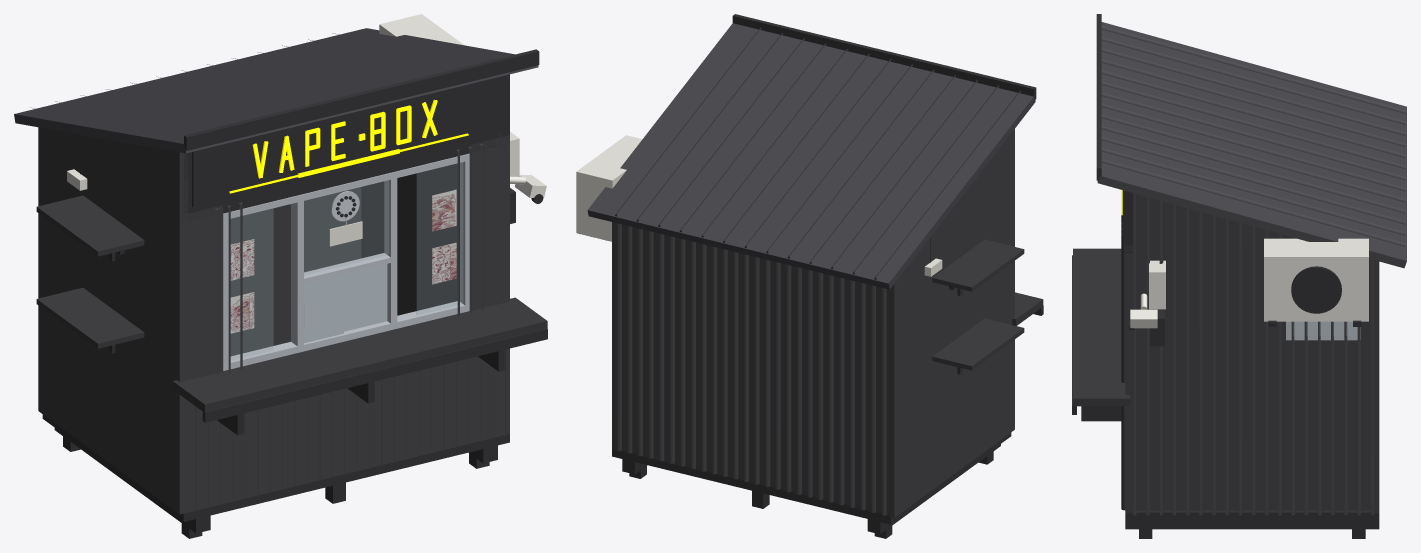
The model's file is vape-box-kiosk 2.glb.
The picture shows the model from 3 angles, left to right: view 1: azimuth 30°, elevation 25°; view 2: azimuth 150°, elevation 25°; view 3: azimuth 270°, elevation 25°; orthographic projection. The views are drawn at different scales.
Parts seen in each view (by area): view 1: side_wall_left, roof_deck, front_apron_panel, sign_face, counter_top, back_wall, side_wall_right, glass_side_2, front_pillar_left, front_pillar_right, roof_fascia_front, glass_side_1 (+25 smaller); view 2: roof_deck, back_wall, side_wall_left, roof_fascia_front, ac_split_outdoor, floor_slab, side_shelf_lower, side_shelf_left_top, back_rib_22, back_rib_5, back_rib_18, back_rib_3 (+24 smaller); view 3: side_wall_right, roof_deck, counter_top, ac_split_outdoor, floor_slab, base_skid_right, ac_fan_grill, side_right_rib_16, back_wall, side_right_rib_12, side_right_rib_11, roof_rib_5 (+40 smaller).
Part boxes in pixels (<box>): side_wall_left: <box>38,127,187,514</box>; roof_deck: <box>14,28,538,153</box>; front_apron_panel: <box>183,348,509,513</box>; sign_face: <box>192,76,503,207</box>; counter_top: <box>172,297,547,412</box>; back_wall: <box>230,187,361,356</box>; side_wall_right: <box>361,133,502,315</box>; glass_side_2: <box>416,162,462,314</box>; front_pillar_left: <box>183,205,222,380</box>; front_pillar_right: <box>471,135,509,310</box>; roof_fascia_front: <box>184,49,539,150</box>; glass_side_1: <box>231,209,273,360</box>; roof_deck: <box>587,23,1035,289</box>; back_wall: <box>612,222,890,516</box>; side_wall_left: <box>887,129,1014,517</box>; roof_fascia_front: <box>732,14,1036,100</box>; ac_split_outdoor: <box>576,135,642,241</box>; floor_slab: <box>612,432,1011,524</box>; side_shelf_lower: <box>932,318,1024,370</box>; side_shelf_left_top: <box>932,239,1024,291</box>; back_rib_22: <box>659,233,664,461</box>; back_rib_5: <box>839,277,844,505</box>; back_rib_18: <box>701,244,706,471</box>; back_rib_3: <box>860,283,865,510</box>; side_wall_right: <box>1137,194,1370,510</box>; roof_deck: <box>1097,22,1406,268</box>; counter_top: <box>1073,248,1130,406</box>; ac_split_outdoor: <box>1264,238,1368,321</box>; floor_slab: <box>1125,510,1379,521</box>; base_skid_right: <box>1125,521,1379,529</box>; ac_fan_grill: <box>1291,266,1341,313</box>; side_right_rib_16: <box>1172,204,1176,515</box>; back_wall: <box>1374,260,1379,513</box>; side_right_rib_12: <box>1225,219,1229,515</box>; side_right_rib_11: <box>1238,222,1242,515</box>; roof_rib_5: <box>1101,70,1406,158</box>.
Bounding box in the file's own units: 2.62 × 2.49 × 1.98.
Materials: 13 (4 with a texture image).
